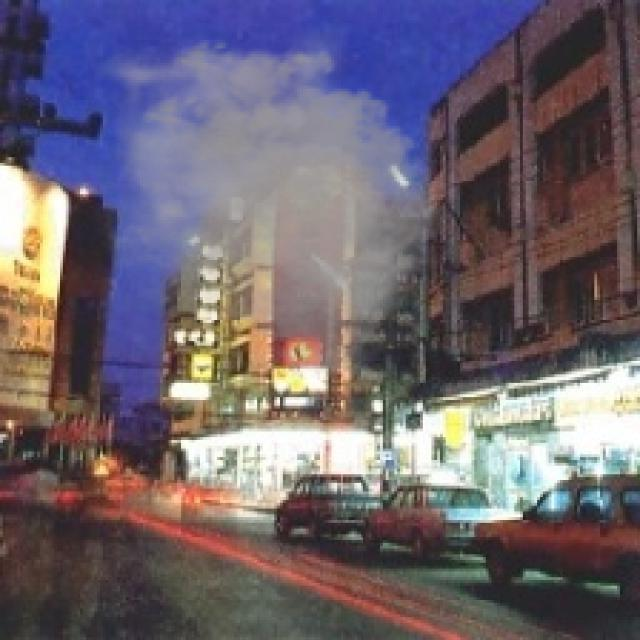Smoke: (86, 23, 460, 386)
